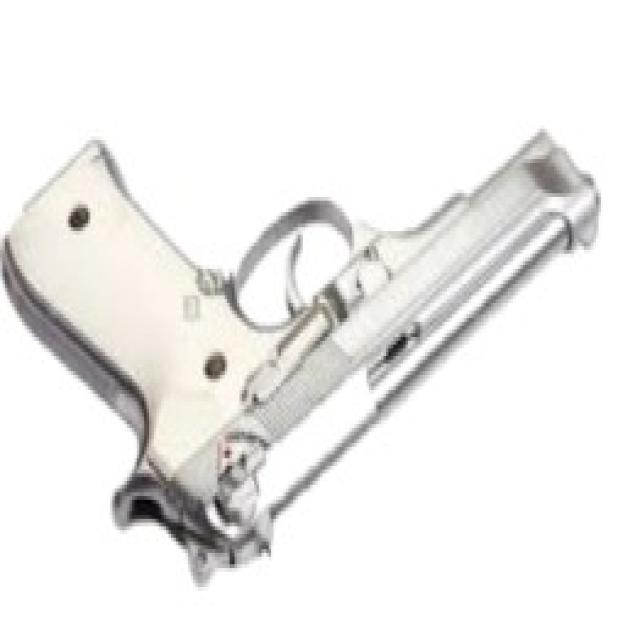pistol: (1, 112, 602, 593)
